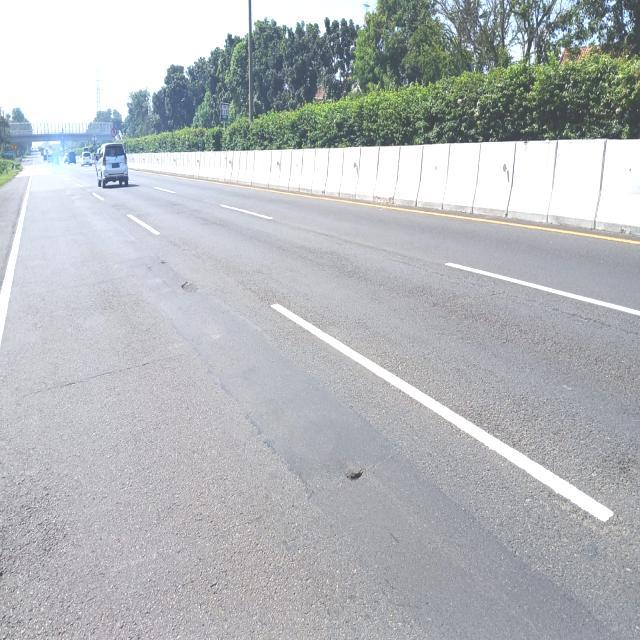Buraco: (341, 464, 370, 484), (179, 280, 201, 294)
